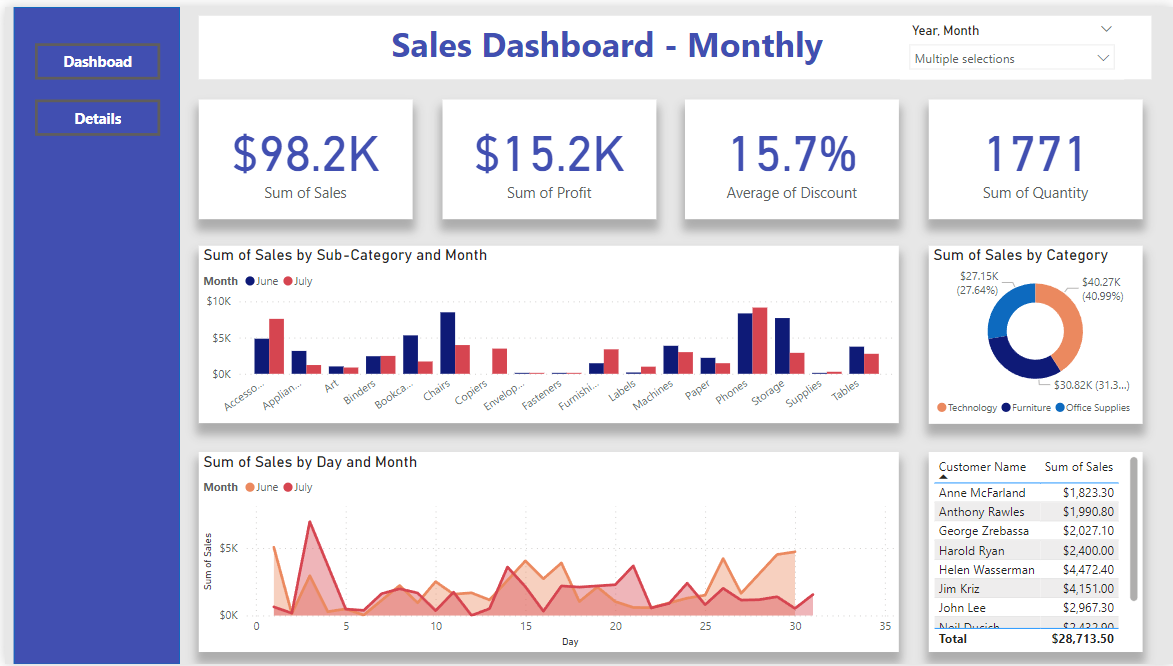

The dashboard page shown, as its layout file describes it:
{"tool":"powerbi","page":{"name":"Page 1","canvas":[1280,720],"ordinal":0},"visuals":[{"type":"card","fields":{"Values":["SuperStore.Sales"]},"box":[212.3,101.4,234.2,131.5],"z":0,"group":"g1"},{"type":"shape","box":[9.6,0,182.2,720.5],"z":0},{"type":"card","fields":{"Values":["SuperStore.Profit"]},"box":[479,101.4,234.2,131.5],"z":1000,"group":"g1"},{"type":"actionButton","box":[32.9,39.8,137.2,39.8],"z":1000},{"type":"card","fields":{"Values":["SuperStore.Discount"]},"box":[745.6,101.4,234.2,131.5],"z":2000,"group":"g1"},{"type":"actionButton","box":[32.9,101.5,137.2,39.8],"z":2000},{"type":"card","fields":{"Values":["SuperStore.Quantity"]},"box":[1012.3,101.4,234.2,131.5],"z":3000,"group":"g1"},{"type":"textbox","box":[212.3,9.6,1043.8,69.9],"z":3000},{"type":"slicer","fields":{"Values":["SuperStore.Order month.Variation.Date Hierarchy.Year","SuperStore.Order month.Variation.Date Hierarchy.Month"]},"box":[980.8,12.3,245.2,67.1],"z":4000},{"type":"clusteredColumnChart","fields":{"Category":["SuperStore.Sub-Category"],"Y":["SuperStore.Sales"],"Series":["SuperStore.Order month.Variation.Date Hierarchy.Month"]},"box":[212.3,261.7,767.1,194.5],"z":4000,"group":"g1"},{"type":"group","id":"g1","title":"Group 1","box":[212.3,101.4,1034.2,605.5],"z":5000},{"type":"areaChart","fields":{"Category":["SuperStore.Order month.Variation.Date Hierarchy.Day"],"Y":["SuperStore.Sales"],"Series":["SuperStore.Order month.Variation.Date Hierarchy.Month"]},"box":[212.3,487.7,767.1,219.2],"z":5000,"group":"g1"},{"type":"donutChart","fields":{"Category":["SuperStore.Category"],"Y":["SuperStore.Sales"]},"box":[1012,262,234,195],"z":6000,"group":"g1"},{"type":"tableEx","fields":{"Values":["SuperStore.Customer Name","SuperStore.Sales"]},"box":[1012.3,487.7,234.2,219.2],"z":7000,"group":"g1"}]}

Visuals, with their boxes in screenshot pixels (x1, y1, x2, y2), scaled from the page's 1280x720 canvas onto the 1173x666 screenshot:
card - SuperStore.Sales: <region>195, 94, 409, 215</region>
shape: <region>9, 0, 176, 665</region>
card - SuperStore.Profit: <region>439, 94, 654, 215</region>
actionButton: <region>30, 37, 156, 74</region>
card - SuperStore.Discount: <region>683, 94, 898, 215</region>
actionButton: <region>30, 94, 156, 131</region>
card - SuperStore.Quantity: <region>928, 94, 1142, 215</region>
textbox: <region>195, 9, 1151, 74</region>
slicer - SuperStore.Order month.Variation.Date Hierarchy.Year x SuperStore.Order month.Variation.Date Hierarchy.Month: <region>899, 11, 1124, 73</region>
clusteredColumnChart - SuperStore.Sub-Category x SuperStore.Sales: <region>195, 242, 898, 422</region>
"Group 1" group: <region>195, 94, 1142, 654</region>
areaChart - SuperStore.Order month.Variation.Date Hierarchy.Day x SuperStore.Sales: <region>195, 451, 898, 654</region>
donutChart - SuperStore.Category x SuperStore.Sales: <region>927, 242, 1142, 423</region>
tableEx - SuperStore.Customer Name x SuperStore.Sales: <region>928, 451, 1142, 654</region>
